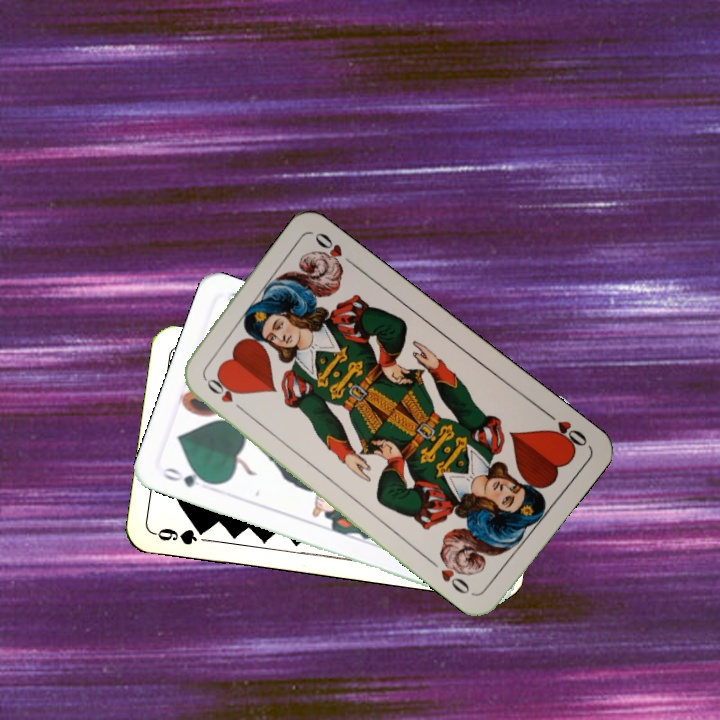G9: (150, 523, 210, 548)
GO: (159, 463, 216, 490)
HO: (541, 407, 590, 453), (200, 373, 249, 417)
